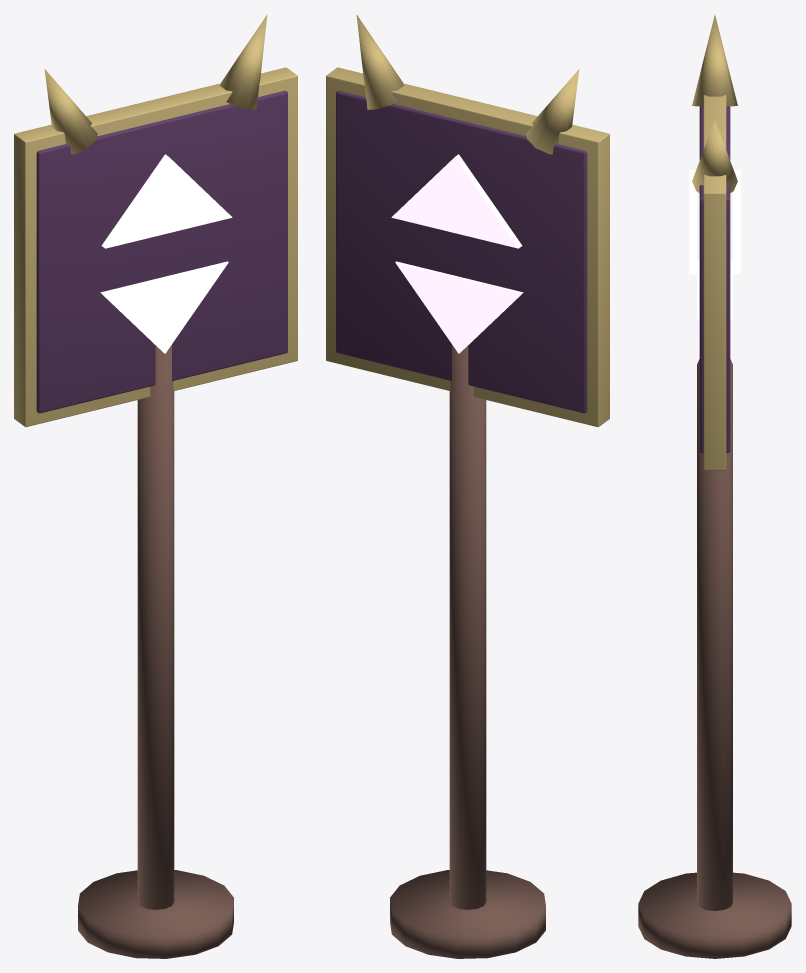
File: PROP_ElevatorSign.fbx
The picture shows the model from 3 angles, left to right: view 1: azimuth 30°, elevation 25°; view 2: azimuth 150°, elevation 25°; view 3: azimuth 270°, elevation 25°; orthographic projection. The views are drawn at different scales.
Visible parts, largest first — view 1: PROP_ElevatorSign; view 2: PROP_ElevatorSign; view 3: PROP_ElevatorSign.
Boxes of the visible parts, <box> form: PROP_ElevatorSign: <box>14,15,297,958</box>; PROP_ElevatorSign: <box>326,15,609,958</box>; PROP_ElevatorSign: <box>638,15,791,958</box>.
Bounding box in the file's own units: 120 × 372 × 60.
